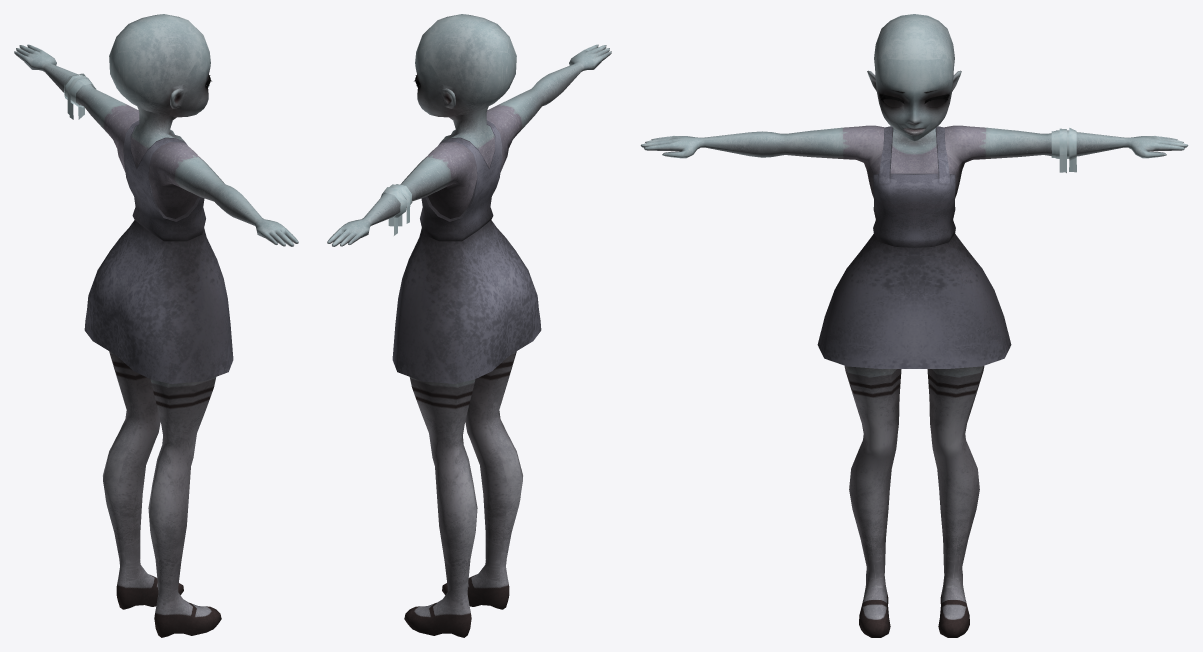
File: linda_all.fbx
3 renders of one model, left to right at view 1: azimuth 30°, elevation 25°; view 2: azimuth 150°, elevation 25°; view 3: azimuth 270°, elevation 25°, orthographic.
Visible parts, largest first — view 1: YMr-Body, Ymr-Head; view 2: YMr-Body, Ymr-Head; view 3: YMr-Body, Ymr-Head.
Boxes of the visible parts, x1,y1,x2,y2 form: YMr-Body: (14,44,298,637); Ymr-Head: (109,14,211,117); YMr-Body: (327,44,611,637); Ymr-Head: (414,14,516,117); YMr-Body: (640,125,1188,637); Ymr-Head: (867,14,961,141).
Bounding box in the file's own units: 19.57 × 116 × 96.07.
